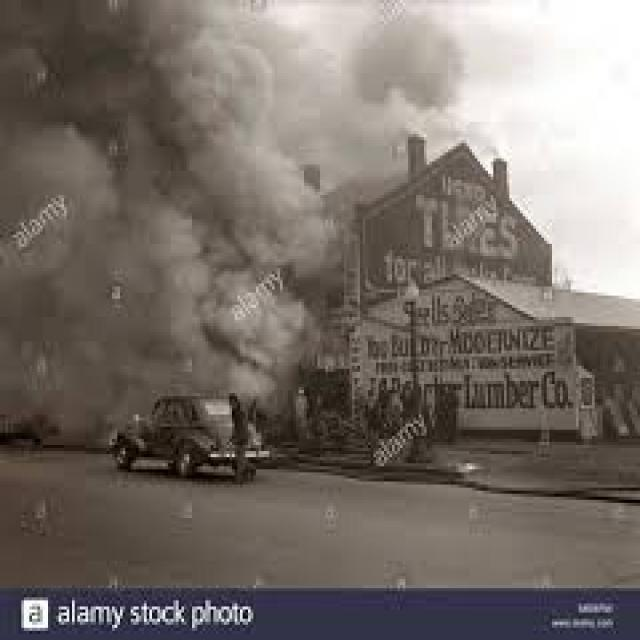Smoke: (14, 27, 436, 346)
